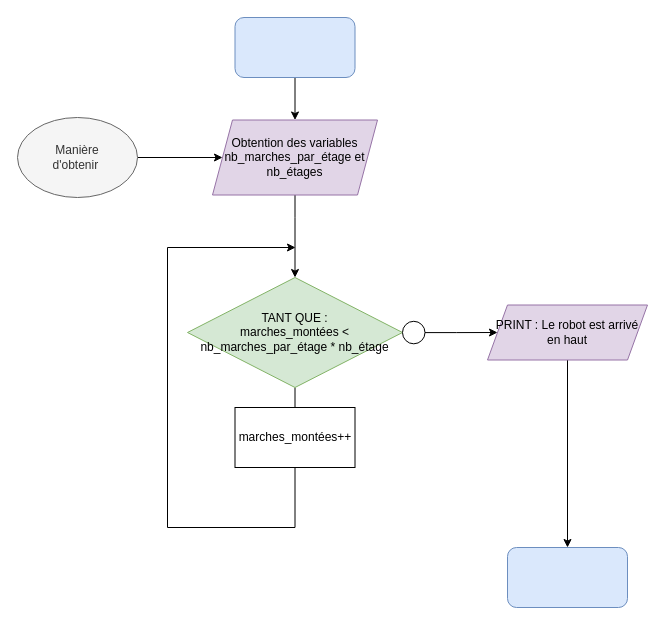
This 665x625 diagram has some shape labels left out. The centre of each missing label's shape, as x and y in pixels:
DEBUT :: point (294, 47)
FIN: point (567, 577)
